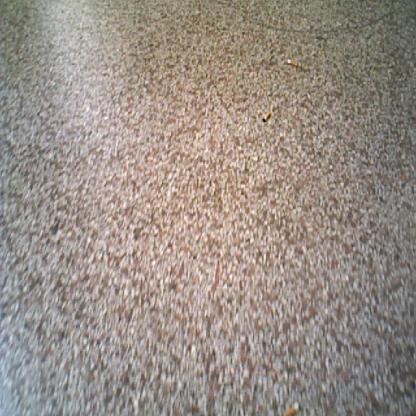dirty: (282, 400, 302, 416), (286, 58, 300, 69), (262, 110, 271, 123)
